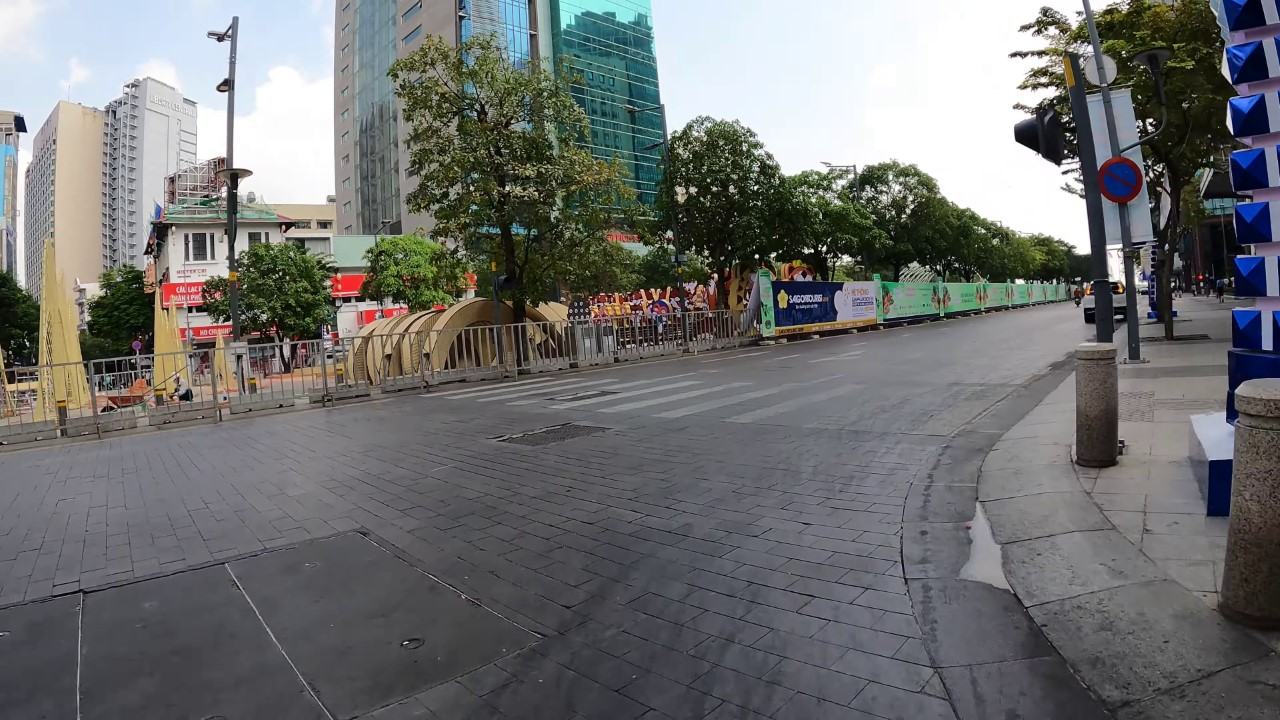cam_do_xe: (1093, 151, 1144, 205)
